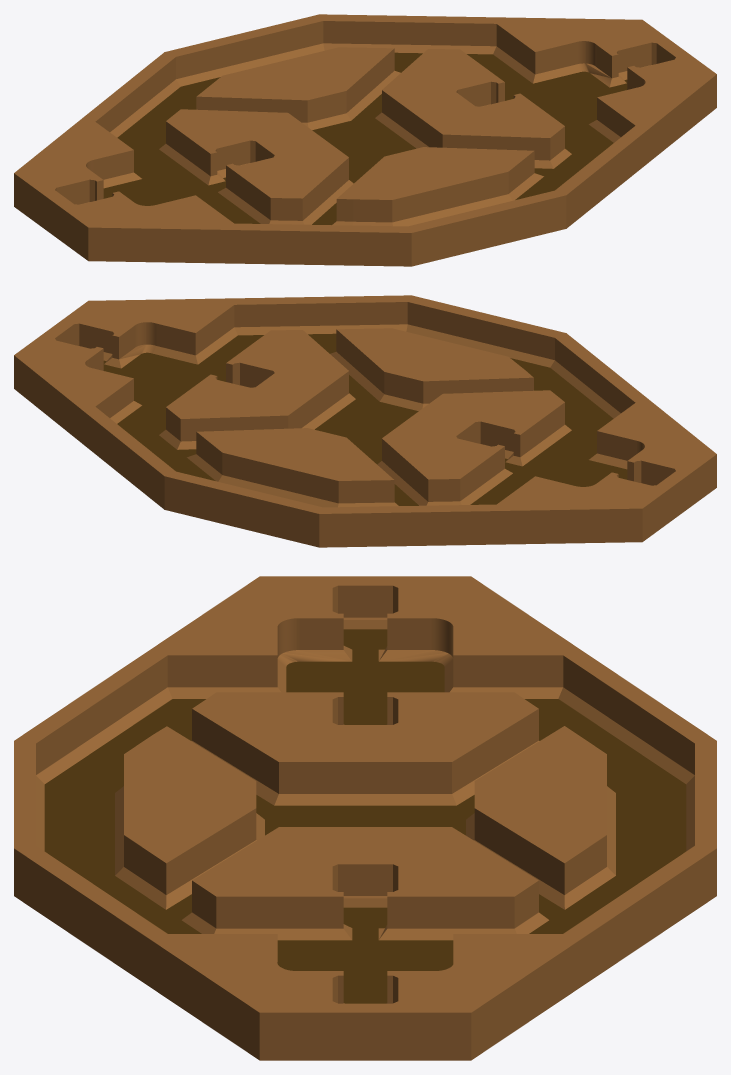
Rendered from Arena2Test V2.fbx.
3 views of the same model, one above another, from view 1: azimuth 30°, elevation 25°; view 2: azimuth 150°, elevation 25°; view 3: azimuth 270°, elevation 25° (orthographic). The views are drawn at different scales.
Visible parts, largest first — view 1: Model; view 2: Model; view 3: Model.
Part boxes in pixels (left/top/right/bottom): Model: left=14, top=14, right=716, bottom=266; Model: left=14, top=295, right=716, bottom=547; Model: left=14, top=576, right=716, bottom=1060.
Bounding box in the file's own units: 235 × 12 × 160.
